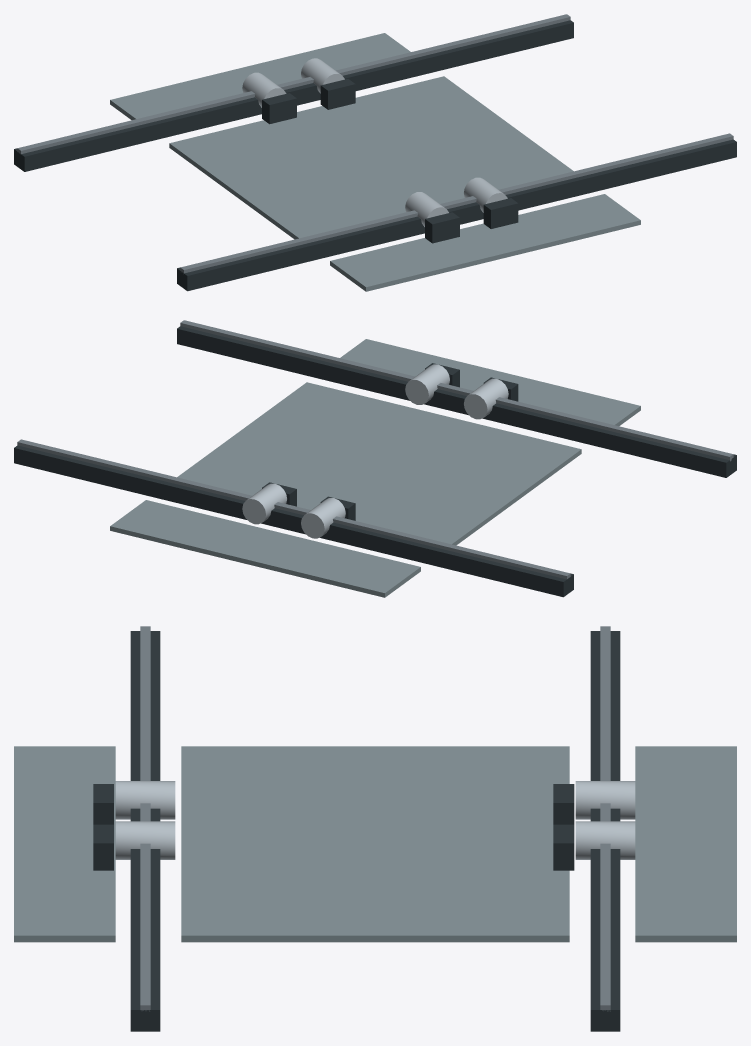
File: inspection_track.dae
3 views of the same model, one above another, from view 1: azimuth 30°, elevation 25°; view 2: azimuth 150°, elevation 25°; view 3: azimuth 270°, elevation 25° (orthographic). The views are drawn at different scales.
Visible parts, largest first — view 1: inspection_track; view 2: inspection_track; view 3: inspection_track.
Boxes of the visible parts, bbox=[...] form: inspection_track: bbox=[14, 14, 736, 291]; inspection_track: bbox=[14, 320, 736, 597]; inspection_track: bbox=[14, 626, 736, 1031].
Bounding box in the file's own units: 3 × 2.42 × 0.165.
